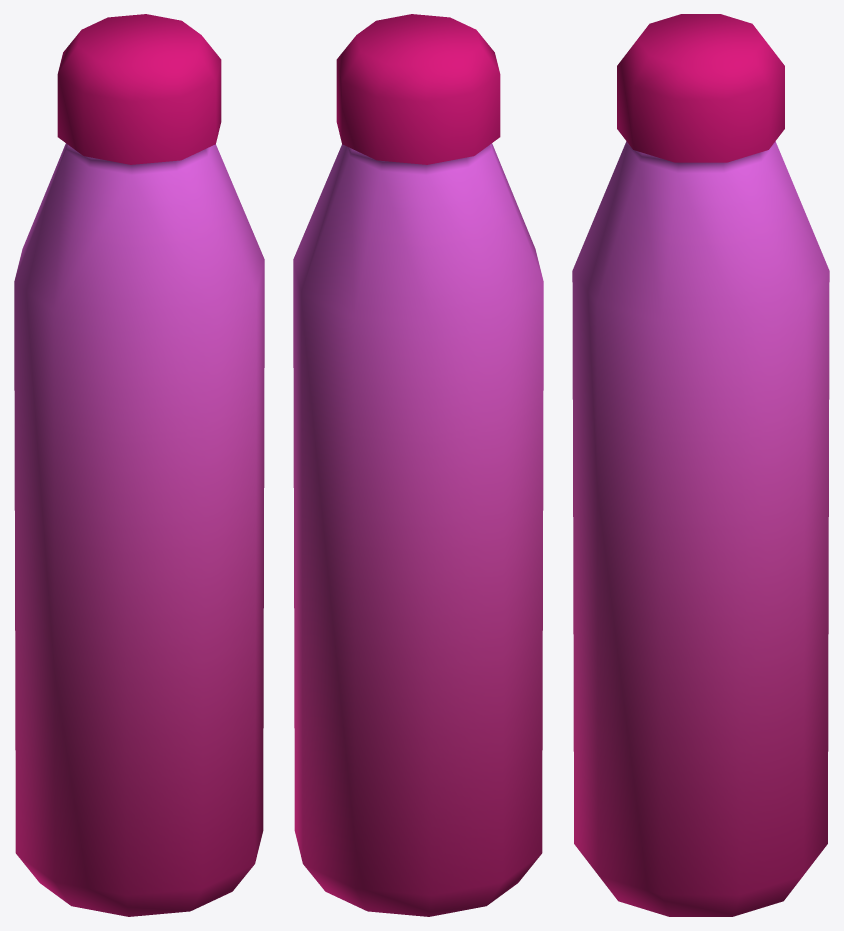
File: bottle2_pink.fbx
3 views of the same model, side by side, from view 1: azimuth 30°, elevation 25°; view 2: azimuth 150°, elevation 25°; view 3: azimuth 270°, elevation 25° (orthographic).
Parts seen in each view (by area): view 1: bottle2_pink; view 2: bottle2_pink; view 3: bottle2_pink.
Part boxes in pixels (bbox=[...]): bottle2_pink: bbox=[14, 14, 264, 916]; bottle2_pink: bbox=[293, 14, 543, 916]; bottle2_pink: bbox=[572, 14, 829, 916].
Size of the model in its own units: 49.11 by 185 by 51.63.
